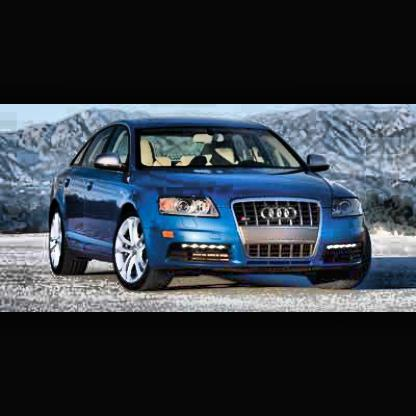Audi S6 Sedan 2011: (50, 120, 375, 293)
